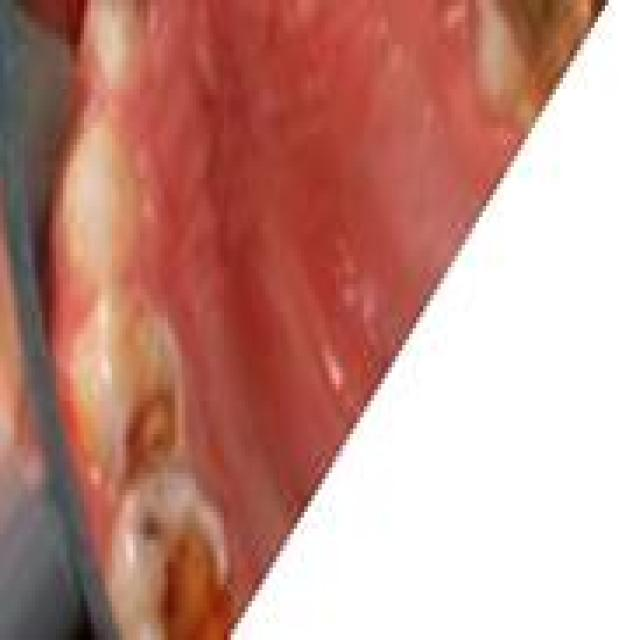caries: (80, 288, 194, 484), (122, 470, 228, 640)
